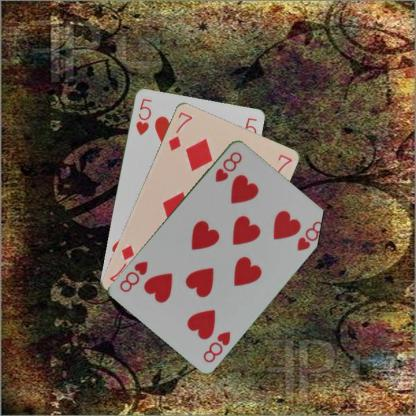5h: (133, 96, 152, 136)
7d: (165, 109, 194, 152)
8h: (211, 148, 244, 184), (200, 328, 232, 364)
